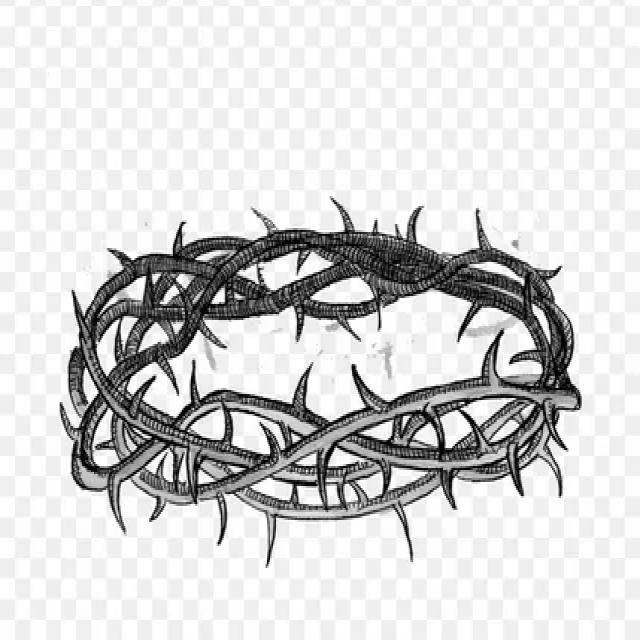crown: (52, 189, 588, 551)
